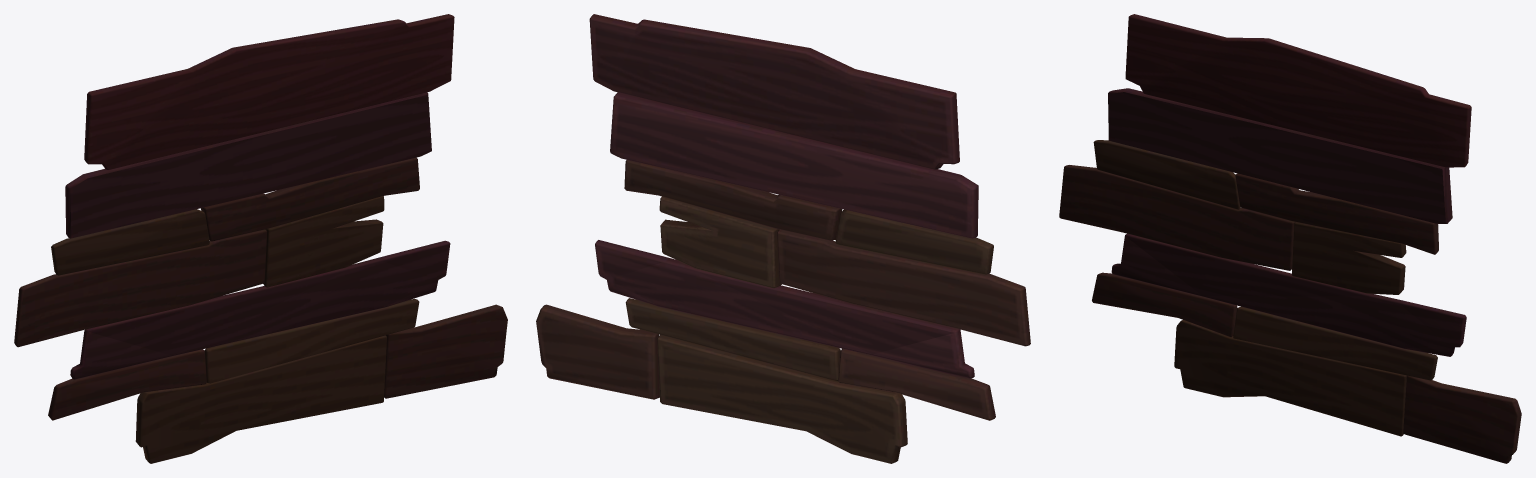
Rendered from PlankTile.fbx.
3 renders of one model, left to right at view 1: azimuth 30°, elevation 25°; view 2: azimuth 150°, elevation 25°; view 3: azimuth 330°, elevation 25°, orthographic. The views are drawn at different scales.
Visible parts, largest first — view 1: PlankTile; view 2: PlankTile; view 3: PlankTile.
Part boxes in pixels (x1,y1,x2,y2): PlankTile: (14, 14, 507, 463); PlankTile: (536, 14, 1030, 463); PlankTile: (1059, 14, 1521, 463).
Size of the model in its own units: 270 by 206 by 10.1.
